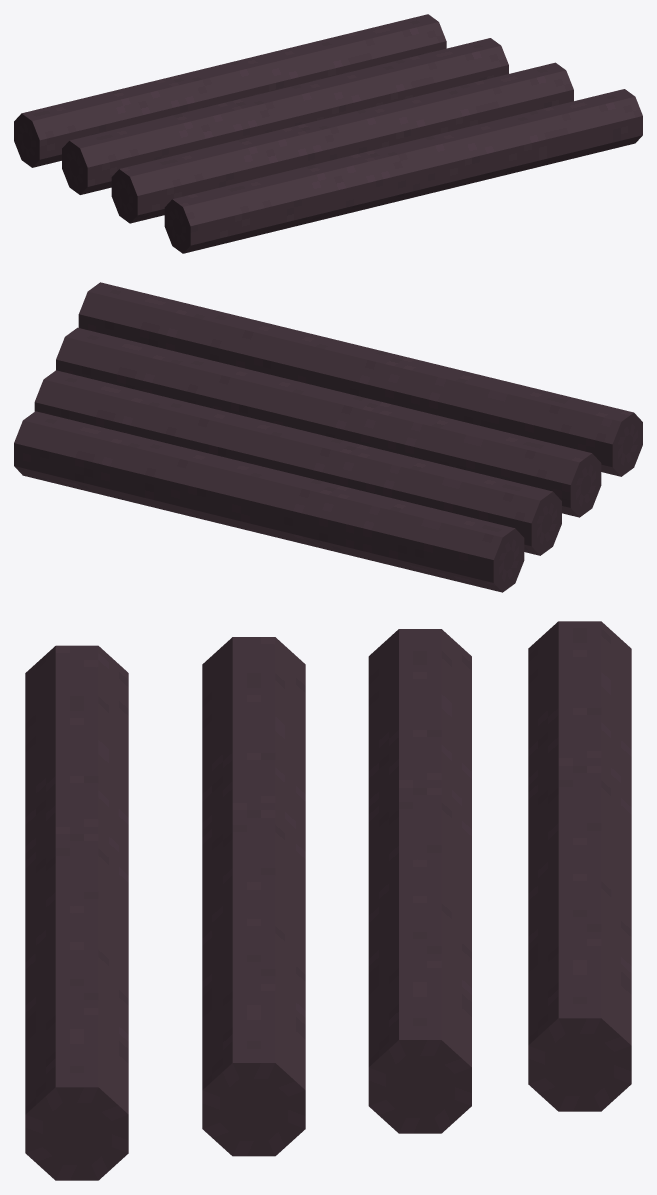
The model's file is licorice.glb.
3 renders of one model, top to bottom at view 1: azimuth 30°, elevation 25°; view 2: azimuth 150°, elevation 25°; view 3: azimuth 270°, elevation 25°, orthographic. The views are drawn at different scales.
Parts seen in each view (by area): view 1: block_long candy stick (×4); view 2: block_long candy stick (×4); view 3: block_long candy stick (×4).
Part boxes in pixels (box(x1,y1,x2,y2)): block_long candy stick (×4): box(14, 14, 642, 253); block_long candy stick (×4): box(14, 282, 642, 592); block_long candy stick (×4): box(25, 621, 631, 1180).
Size of the model in its own units: 0.0411 by 0.00385 by 0.0226.
Materials: 1 (1 with a texture image).
